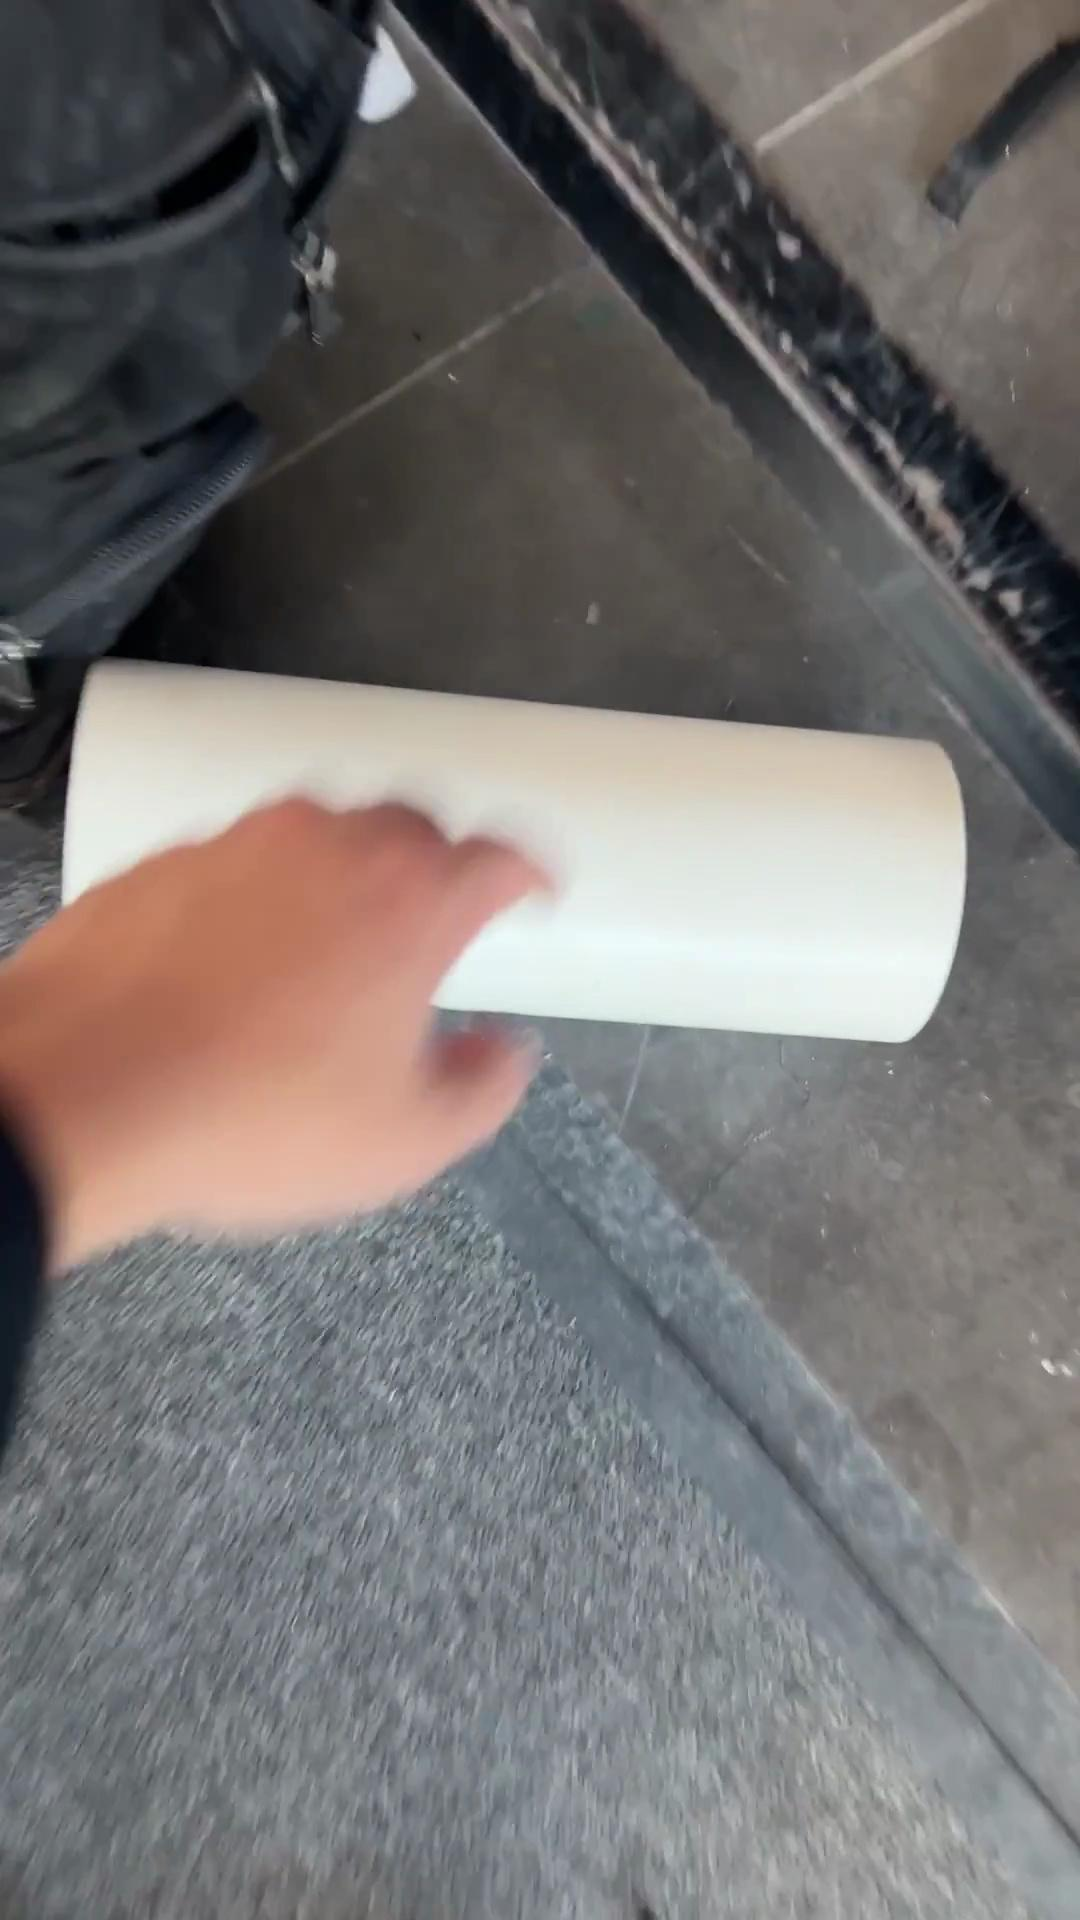CORAL: (57, 653, 969, 1048)
